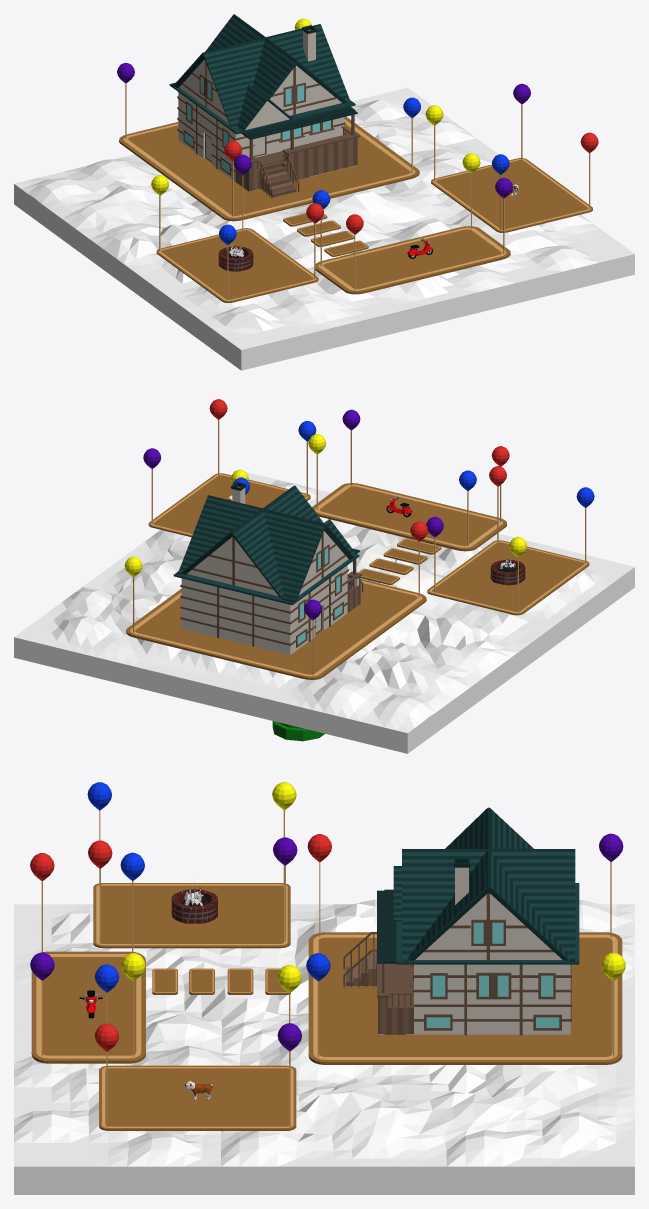
3 views of the same model, one above another, from view 1: azimuth 30°, elevation 25°; view 2: azimuth 150°, elevation 25°; view 3: azimuth 270°, elevation 25° (orthographic). The views are drawn at different scales.
Visible parts, largest first — view 1: Cube.013, Cube.793, OBJRANDOM_CAMPFIRE; view 2: Cube.013, Cube.793, OBJRANDOM_CAMPFIRE, UNDERGROUND_PIPES; view 3: Cube.013, Cube.793, OBJRANDOM_CAMPFIRE.
Boxes of the visible parts, left/top/right/bottom form: Cube.013: left=14, top=18, right=634, bottom=370; Cube.793: left=169, top=14, right=360, bottom=198; OBJRANDOM_CAMPFIRE: left=218, top=244, right=253, bottom=271; Cube.013: left=14, top=399, right=634, bottom=753; Cube.793: left=173, top=482, right=363, bottom=654; OBJRANDOM_CAMPFIRE: left=490, top=559, right=525, bottom=585; UNDERGROUND_PIPES: left=272, top=721, right=324, bottom=741; Cube.013: left=14, top=782, right=634, bottom=1194; Cube.793: left=343, top=807, right=579, bottom=1035; OBJRANDOM_CAMPFIRE: left=171, top=887, right=217, bottom=923.
Size of the model in its own units: 4000 by 2271 by 4000.
Materials: 31 (2 with a texture image).
